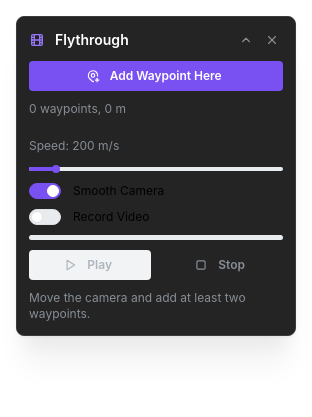
FlythroughPanel › measures the path once a second waypoint is captured
Click the button "Add Waypoint Here": (156, 76) 29,61 -> 283,91
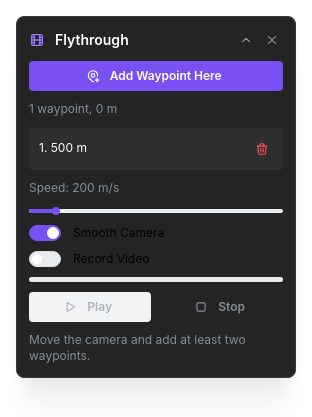
Click the button "Add Waypoint Here": (156, 76) 29,61 -> 283,91
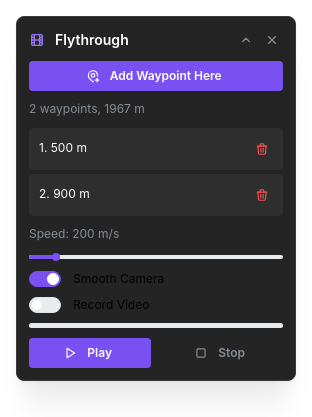
Expected: the number of elements with test id "flythrough-waypoint" is 2, 29,128 -> 283,170; 29,174 -> 283,216
Expected: the text with test id "flythrough-summary" reads "2 waypoints, 1967 m", 29,101 -> 145,116
Expected: the button "Play" is enabled, 29,338 -> 151,368
